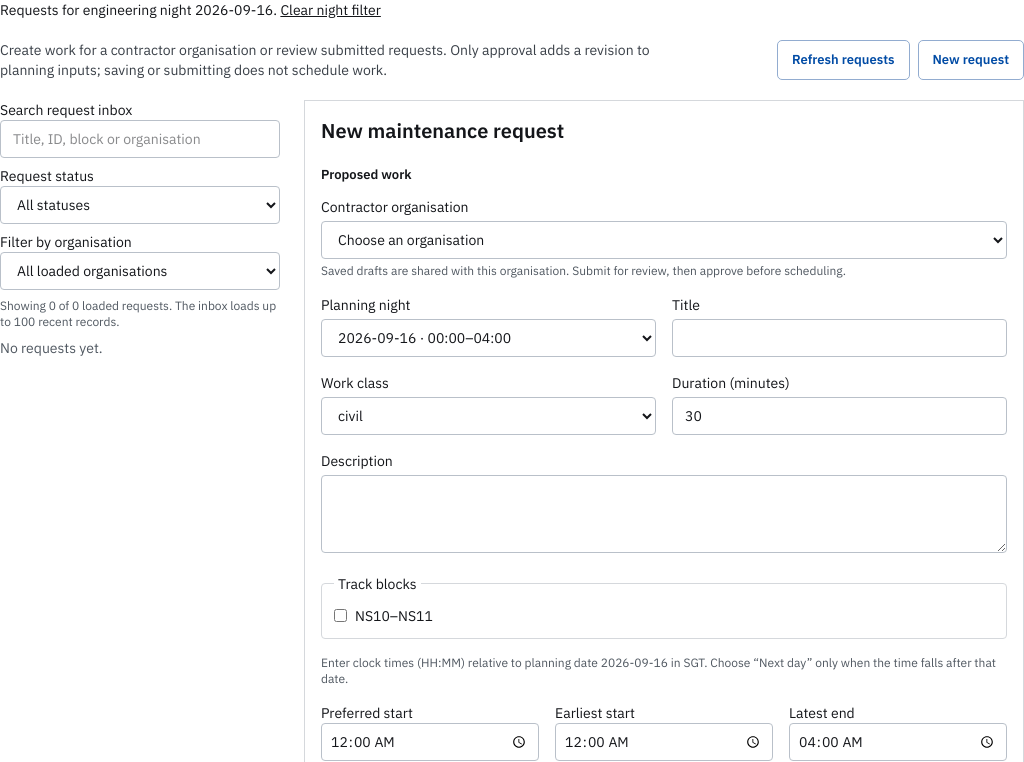
Test case: structured request intake › opens planner creation from a night link and submits for separate review
The image size is (1024, 762).
Expected: the dropdown labelled "Planning night" shows "2026-09-16 · 00:00–04:00", [321, 318, 656, 356]
Select "Demo contractor" in the dropdown labelled "Contractor organisation": (664, 240) [321, 220, 1007, 258]
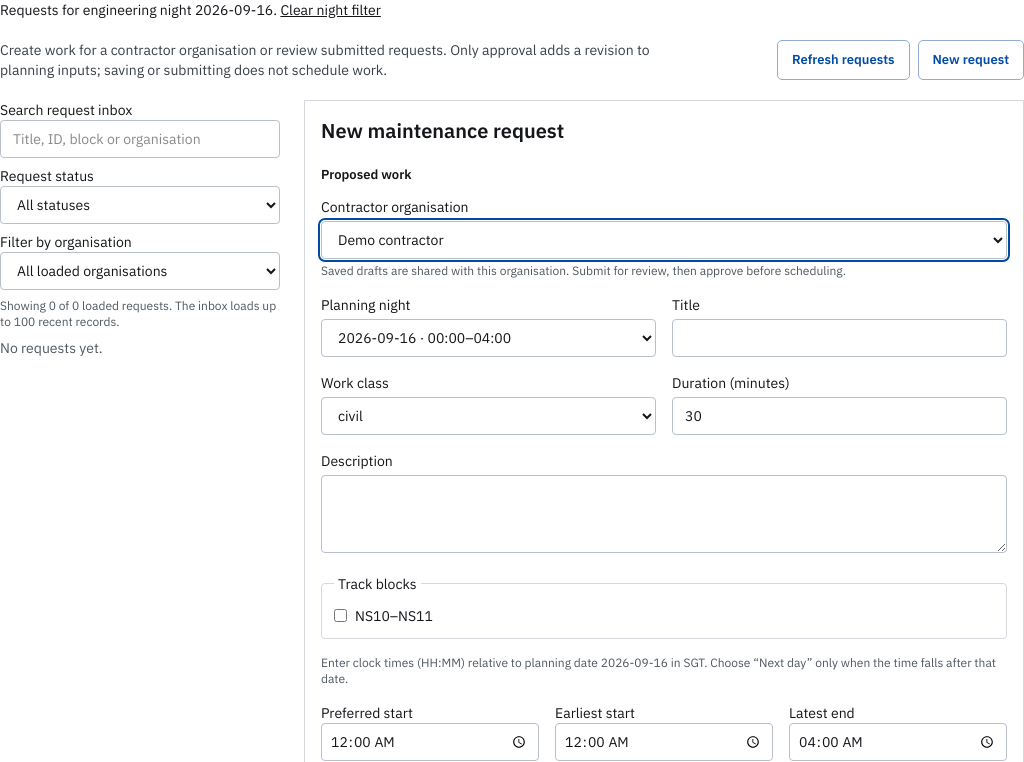
In the field labelled "Title": (840, 338) [672, 318, 1007, 356], type "Inspection"
(page scrolled)
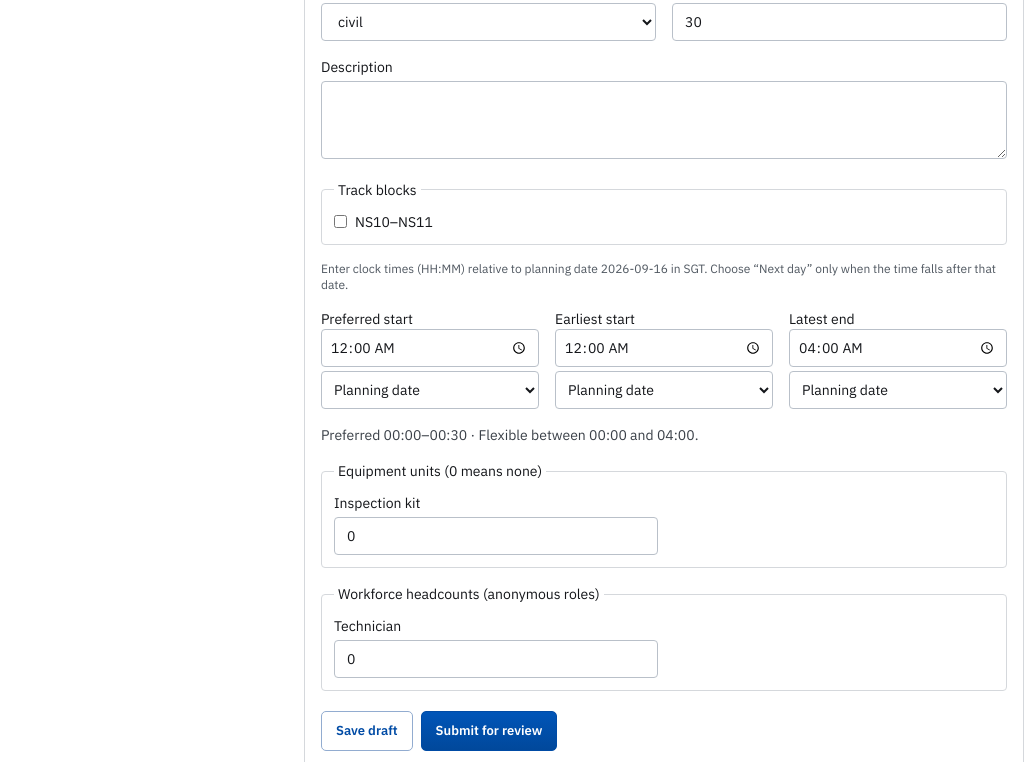
Click the button "Submit for review": (489, 731) [421, 711, 557, 751]
(page scrolled)
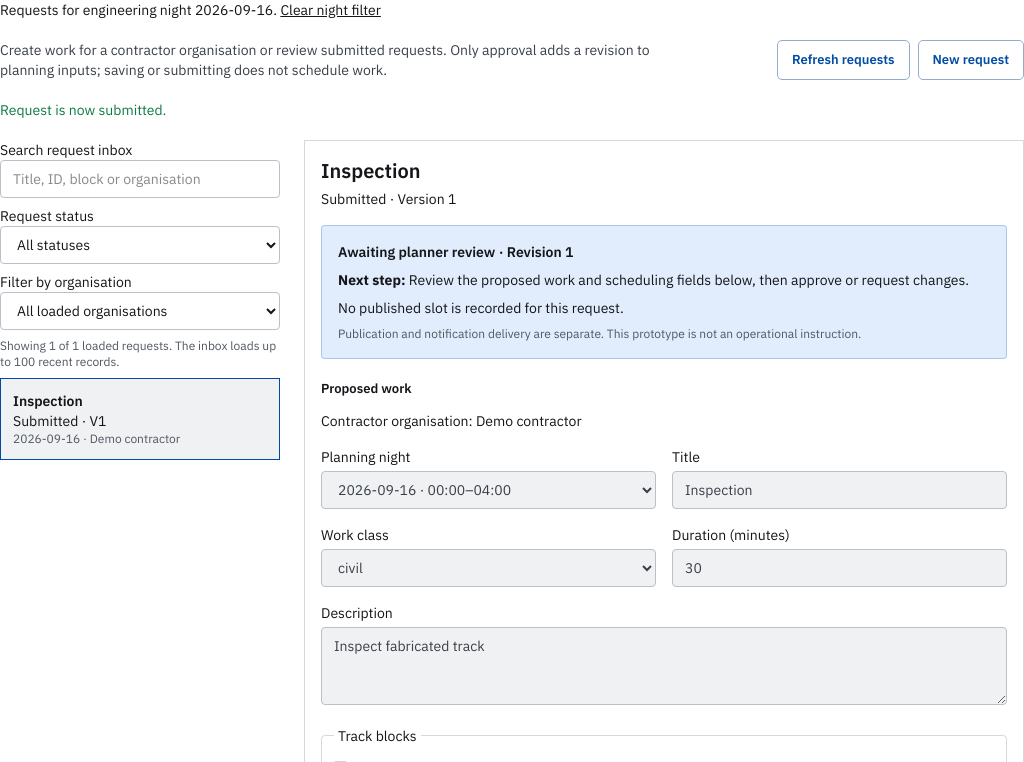
Result: the text "Request is now submitted." is shown at [0, 101, 166, 119]
